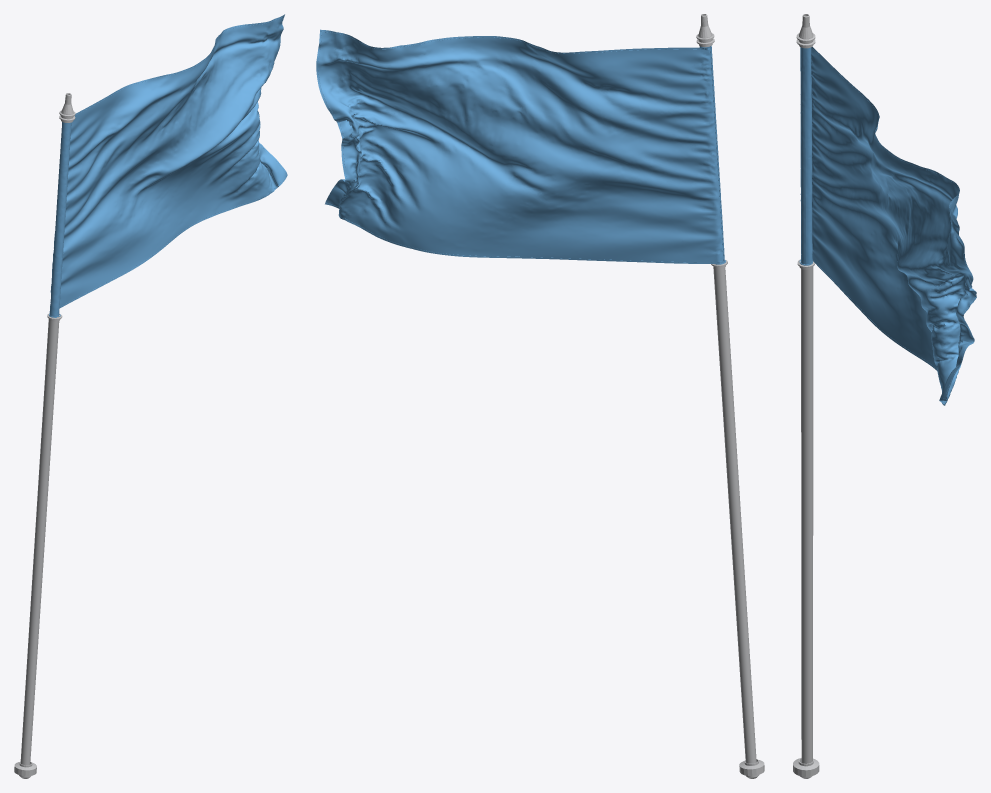
The model's file is playerFlag.fbx.
3 renders of one model, left to right at view 1: azimuth 30°, elevation 25°; view 2: azimuth 150°, elevation 25°; view 3: azimuth 270°, elevation 25°, orthographic. The views are drawn at different scales.
Parts seen in each view (by area): view 1: flag_obj; view 2: flag_obj; view 3: flag_obj.
Part boxes in pixels (x1,y1,x2,y2): flag_obj: (14,14,287,778); flag_obj: (316,14,764,778); flag_obj: (793,14,976,778).
Size of the model in its own units: 373 by 719 by 152.
